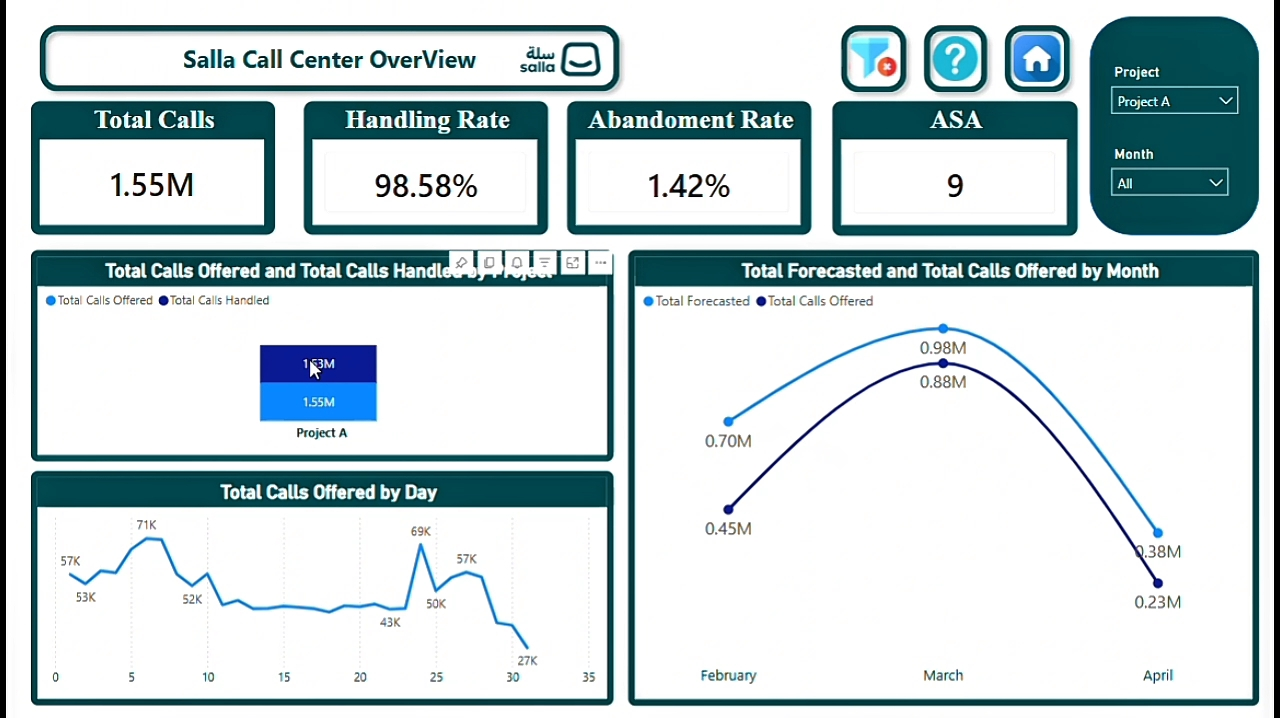

Layout of this report page (visuals, bound fields, positions):
{"tool":"powerbi","page":{"name":"Dashboard","canvas":[1280,720],"ordinal":1},"visuals":[{"type":"cardVisual","title":"Total Calls","fields":{"Data":["Apr.Total Calls"]},"box":[20.9,95.7,248.2,136.1],"z":0},{"type":"cardVisual","title":"Handling Rate","fields":{"Data":["Apr.Handiing Rate"]},"box":[297.6,95.7,248.2,136.1],"z":1000},{"type":"cardVisual","title":"Abandoment Rate","fields":{"Data":["Apr.Abandon Rate"]},"box":[565.2,95.7,248.2,136.1],"z":2000},{"type":"columnChart","fields":{"Category":["Apr.Project"],"Y":["Apr.Total Calls","Apr.Handled Calls"]},"box":[20.9,246.7,590.7,213.8],"z":3000},{"type":"actionButton","box":[20.8,10.4,605.8,84.8],"z":4000},{"type":"actionButton","box":[500.1,4.5,111.6,98.2],"z":5000},{"type":"actionButton","box":[1000.4,10.5,83.7,85.2],"z":6000},{"type":"actionButton","title":"unfilter","box":[834.4,10.5,83.7,85.2],"z":7000},{"type":"actionButton","box":[918.1,10.5,82.2,85.2],"z":8000},{"type":"lineChart","fields":{"Y":["Apr.Total Calls Offered"],"Category":["Calendar.Date.Variation.Date Hierarchy.Day"]},"box":[20.9,471,590.7,237.8],"z":10000},{"type":"cardVisual","title":"ASA","fields":{"Data":["Apr.AsA Avg"]},"box":[834.4,95.7,248.2,137.6],"z":11000},{"type":"lineChart","fields":{"Y":["Apr.Total Forecasted","Apr.Total Calls Offered"],"Category":["Calendar.Date.Variation.Date Hierarchy.Month"]},"box":[626.5,246.7,640,462.1],"z":12000},{"type":"shape","box":[1094.6,10.5,172,221.3],"z":13000},{"type":"slicer","fields":{"Values":["Apr.Project"]},"box":[1106.5,52.3,149.5,67.3],"z":14000},{"type":"slicer","fields":{"Values":["Calendar.Date.Variation.Date Hierarchy.Month"]},"box":[1106.5,134.6,139.1,82.2],"z":15000}]}

Visuals, with their boxes in screenshot pixels (x1, y1, x2, y2), scaled from the page's 1280x720 canvas onto the 1280x718 screenshot:
"Total Calls" cardVisual: x1=21, y1=95, x2=269, y2=231
"Handling Rate" cardVisual: x1=298, y1=95, x2=546, y2=231
"Abandoment Rate" cardVisual: x1=565, y1=95, x2=813, y2=231
columnChart - Apr.Project x Apr.Total Calls: x1=21, y1=246, x2=612, y2=459
actionButton: x1=21, y1=10, x2=627, y2=95
actionButton: x1=500, y1=4, x2=612, y2=102
actionButton: x1=1000, y1=10, x2=1084, y2=95
"unfilter" actionButton: x1=834, y1=10, x2=918, y2=95
actionButton: x1=918, y1=10, x2=1000, y2=95
lineChart - Apr.Total Calls Offered x Calendar.Date.Variation.Date Hierarchy.Day: x1=21, y1=470, x2=612, y2=707
"ASA" cardVisual: x1=834, y1=95, x2=1083, y2=233
lineChart - Apr.Total Forecasted x Apr.Total Calls Offered: x1=626, y1=246, x2=1266, y2=707
shape: x1=1095, y1=10, x2=1267, y2=231
slicer - Apr.Project: x1=1106, y1=52, x2=1256, y2=119
slicer - Calendar.Date.Variation.Date Hierarchy.Month: x1=1106, y1=134, x2=1246, y2=216
